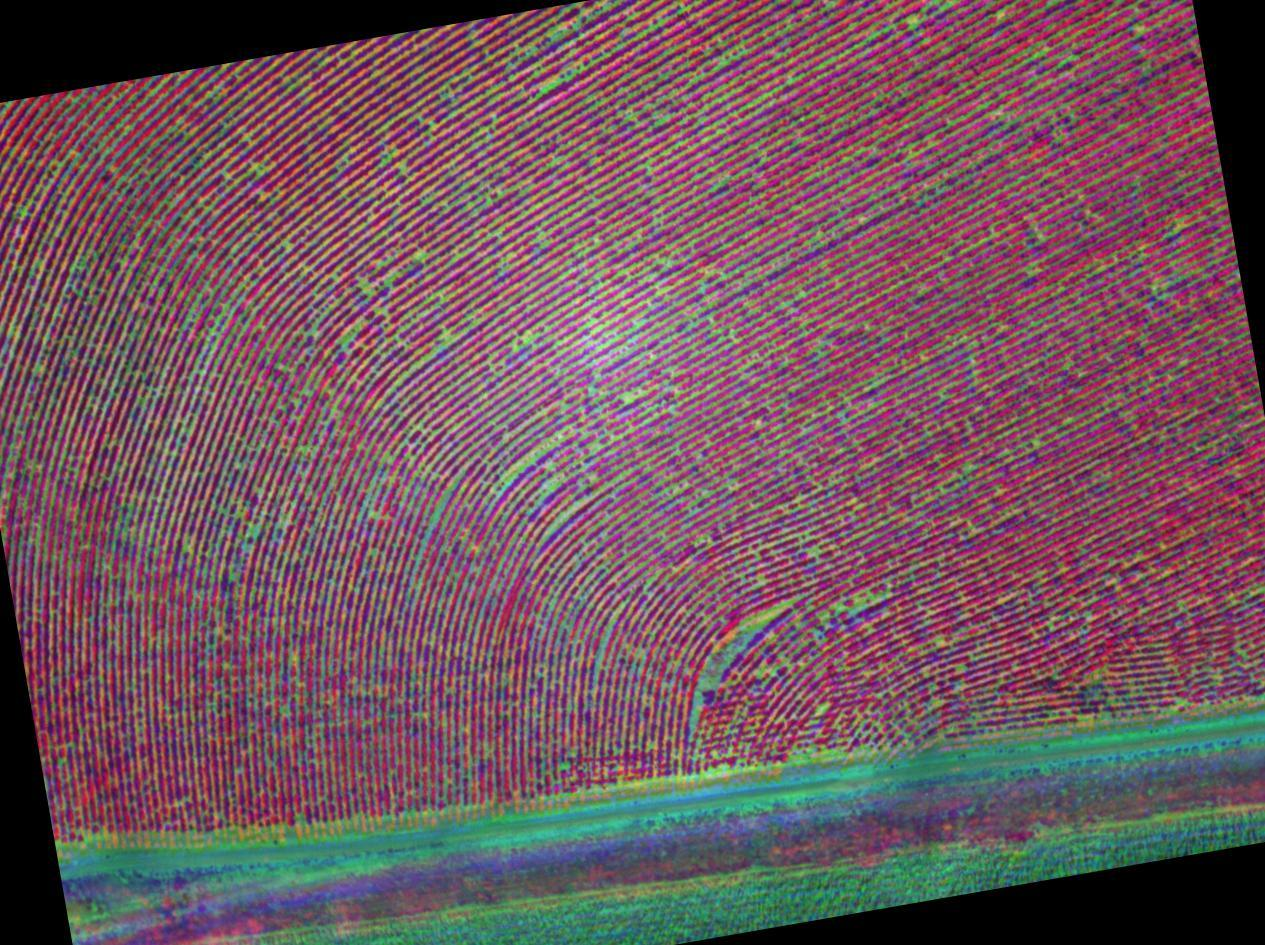dc: (401, 65, 512, 167), (183, 413, 289, 511), (516, 408, 607, 495), (48, 240, 127, 334), (541, 15, 632, 85), (681, 598, 753, 681)
